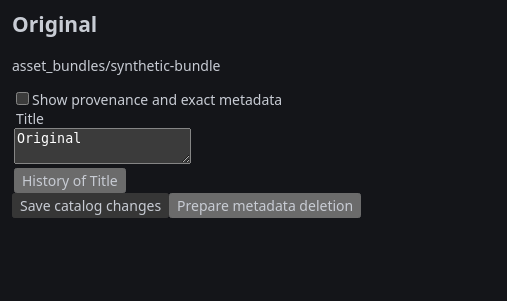
Test: reports current delivery failure and clears it after successful new delivery
Replace the text in the text box named "Title" with "Offline draft" at (102, 146), box [14,128,191,164]
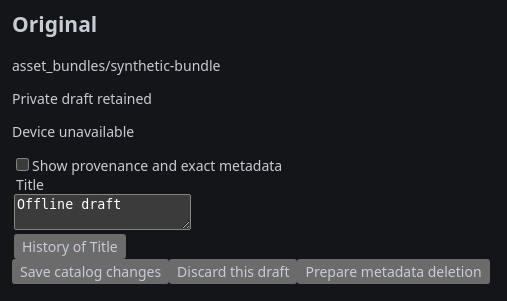
Now the message "Device unavailable" is shown, box [12,122,134,141]
Replace the text in the text box named "Title" with "Delivered draft" at (102, 212), box [14,194,191,230]
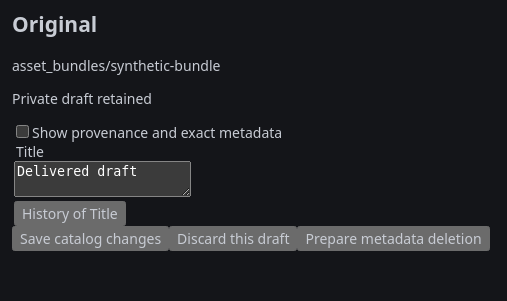
Now the message "Device unavailable" is gone
